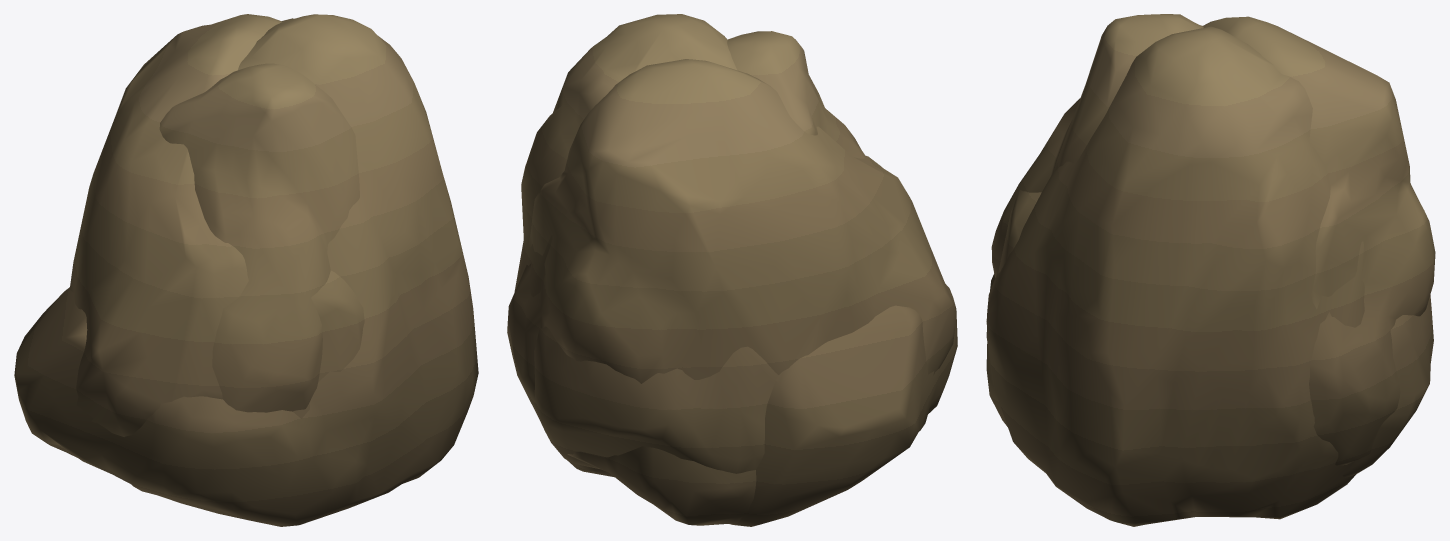
The model's file is SM_rocks.fbx.
3 renders of one model, left to right at view 1: azimuth 30°, elevation 25°; view 2: azimuth 150°, elevation 25°; view 3: azimuth 270°, elevation 25°, orthographic. The views are drawn at different scales.
Visible parts, largest first — view 1: SM_rock_02, SM_rock_01, SM_rock_03; view 2: SM_rock_01, SM_rock_02, SM_rock_03; view 3: SM_rock_02, SM_rock_01, SM_rock_03.
Part boxes in pixels (x1,y1,x2,y2): SM_rock_02: [14, 14, 478, 526]; SM_rock_01: [69, 14, 364, 436]; SM_rock_03: [132, 63, 359, 494]; SM_rock_01: [507, 59, 956, 525]; SM_rock_02: [514, 14, 957, 526]; SM_rock_03: [533, 31, 865, 473]; SM_rock_02: [986, 26, 1364, 526]; SM_rock_01: [998, 16, 1435, 465]; SM_rock_03: [991, 14, 1433, 477].
Size of the model in its own units: 155 by 166 by 146.
